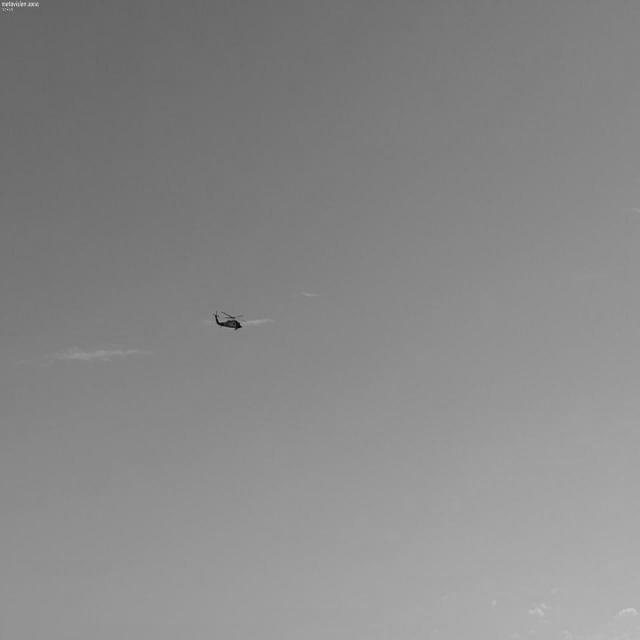helikopter: (204, 275, 267, 353)
